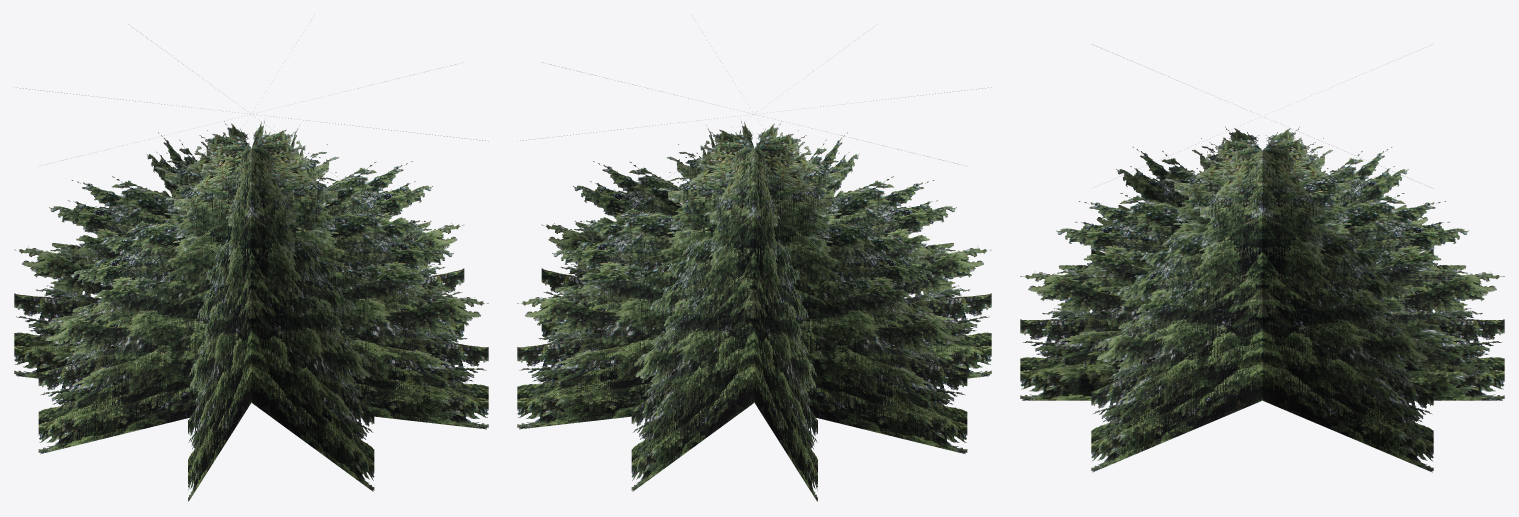
Rendered from bush.fbx.
3 views of the same model, side by side, from view 1: azimuth 30°, elevation 25°; view 2: azimuth 150°, elevation 25°; view 3: azimuth 270°, elevation 25° (orthographic).
Parts seen in each view (by area): view 1: bush6; view 2: bush6; view 3: bush6.
Boxes of the visible parts, x1,y1,x2,y2 form: bush6: [14, 27, 488, 501]; bush6: [517, 27, 991, 501]; bush6: [1020, 46, 1504, 472].
Size of the model in its own units: 1.93 by 1.25 by 1.93.
